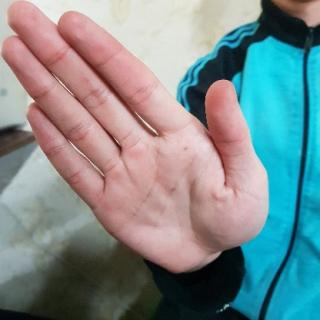SEEN: (0, 2, 278, 280)
